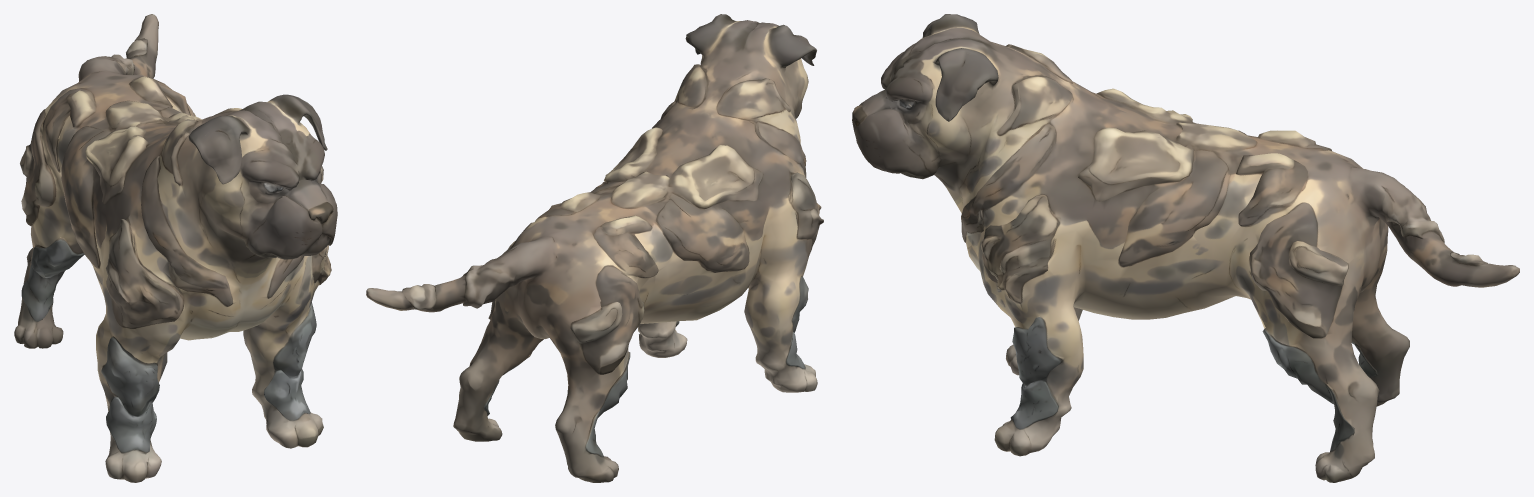
The model's file is Pok61. Presarox.glb.
3 views of the same model, side by side, from view 1: azimuth 30°, elevation 25°; view 2: azimuth 150°, elevation 25°; view 3: azimuth 270°, elevation 25° (orthographic). The views are drawn at different scales.
Parts seen in each view (by area): view 1: geometry_0; view 2: geometry_0; view 3: geometry_0.
Boxes of the visible parts, x1,y1,x2,y2 form: geometry_0: (14,14,337,482); geometry_0: (366,14,823,482); geometry_0: (852,14,1519,482).
Bounding box in the file's own units: 0.4771 × 0.5996 × 0.9502.
Materials: 1 (1 with a texture image).
